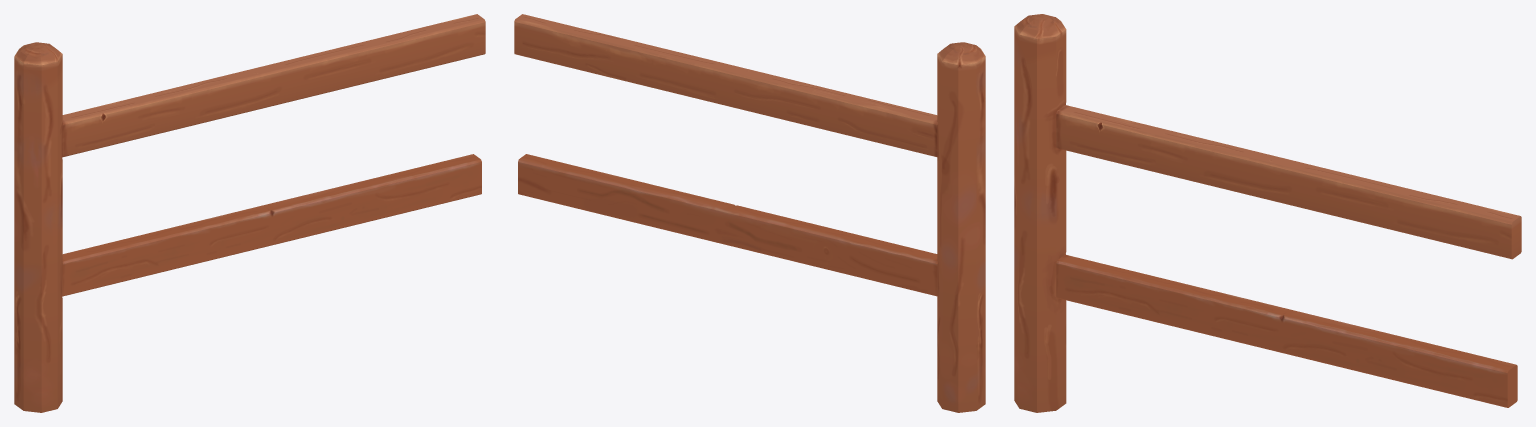
Rendered from fence.glb.
3 renders of one model, left to right at view 1: azimuth 30°, elevation 25°; view 2: azimuth 150°, elevation 25°; view 3: azimuth 330°, elevation 25°, orthographic. The views are drawn at different scales.
Parts seen in each view (by area): view 1: Fence.004; view 2: Fence.004; view 3: Fence.004.
Part boxes in pixels (left/top/right/bottom): Fence.004: left=14, top=14, right=485, bottom=412; Fence.004: left=514, top=14, right=985, bottom=412; Fence.004: left=1014, top=14, right=1521, bottom=412.
Bounding box in the file's own units: 1.53 × 1.13 × 0.1293.
Materials: 1 (1 with a texture image).
